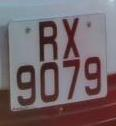0: (36, 58, 64, 106)
7: (60, 55, 85, 105)
9: (13, 57, 40, 111), (81, 51, 104, 103)
R: (35, 15, 63, 66)
X: (60, 13, 85, 62)
